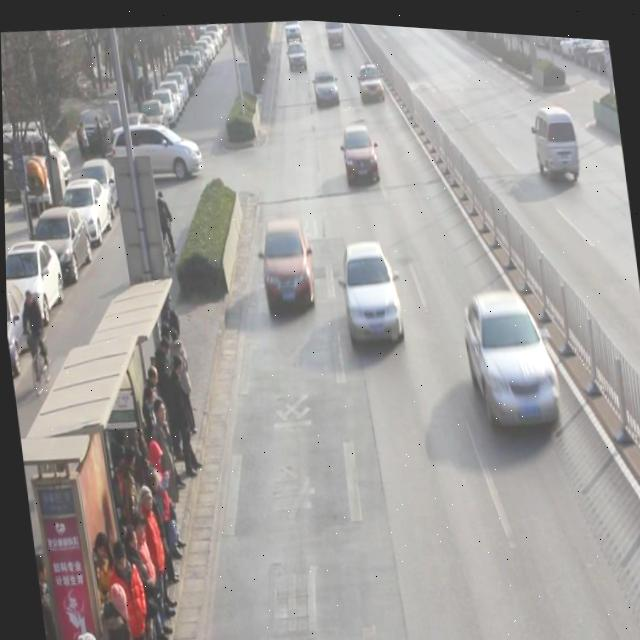car: (461, 278, 565, 431), (338, 232, 406, 343), (255, 212, 318, 309), (340, 117, 381, 181), (312, 62, 342, 105), (357, 57, 386, 101), (285, 35, 309, 69)
truck: (531, 93, 583, 179)
